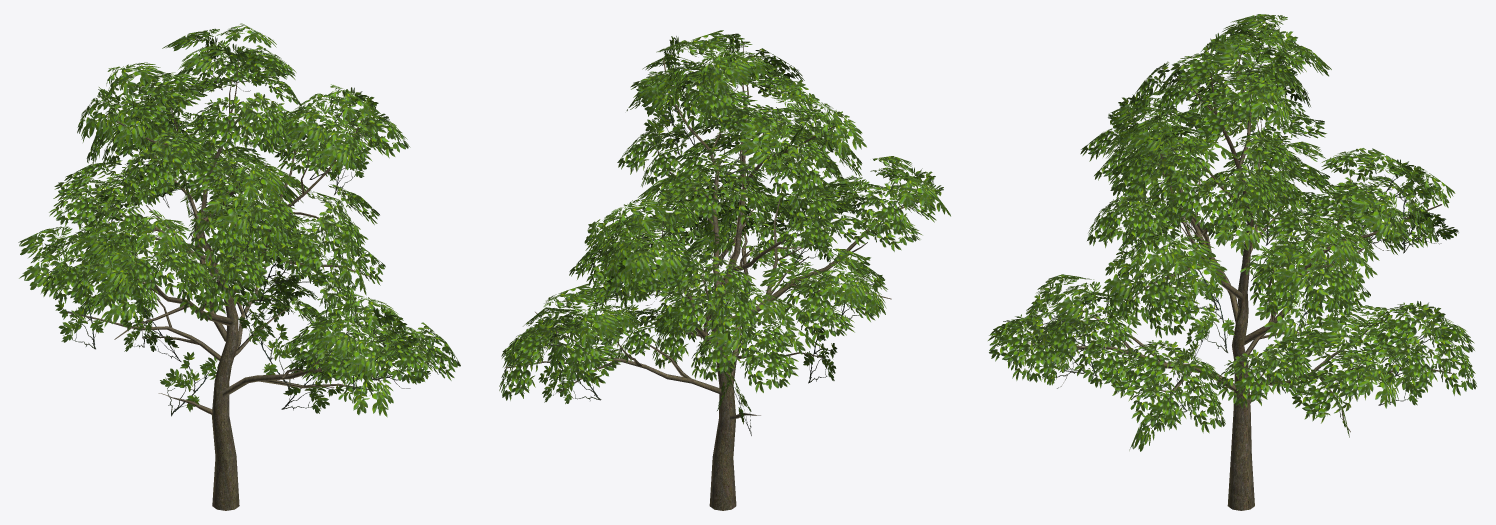
The model's file is tree2b.obj.
3 views of the same model, side by side, from view 1: azimuth 30°, elevation 25°; view 2: azimuth 150°, elevation 25°; view 3: azimuth 270°, elevation 25° (orthographic).
Parts seen in each view (by area): view 1: polySurface2108, polySurface65; view 2: polySurface2108, polySurface65; view 3: polySurface2108, polySurface65.
Boxes of the visible parts, box(x1,y1,x2,y2) form: polySurface2108: box(18, 23, 460, 417); polySurface65: box(68, 59, 429, 510); polySurface2108: box(499, 30, 950, 435); polySurface65: box(505, 42, 933, 510); polySurface2108: box(988, 14, 1476, 451); polySurface65: box(1022, 43, 1451, 510).
Size of the model in its own units: 14.47 by 19.33 by 18.33.
2 materials, 2 textured.
